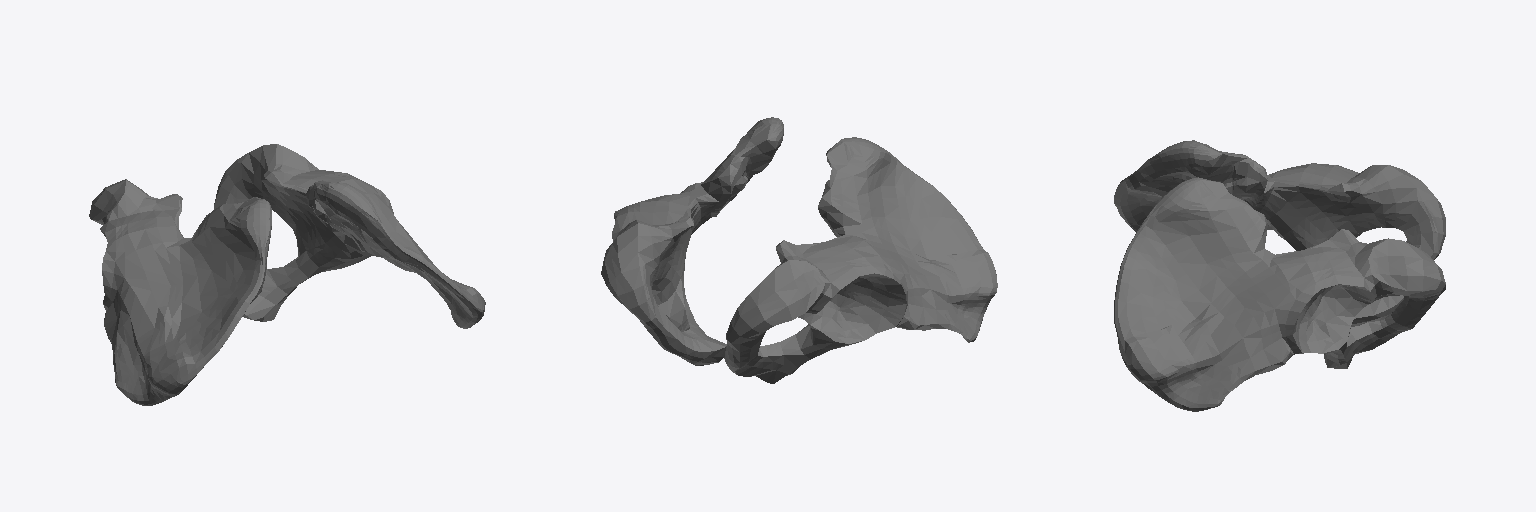
The model's file is Female_Skeletal_Pelvis.obj.
The picture shows the model from 3 angles: view 1: azimuth 30°, elevation 25°; view 2: azimuth 150°, elevation 25°; view 3: azimuth 270°, elevation 25°; orthographic projection.
Visible parts, largest first — view 1: Female_Skeletal_Pelvis; view 2: Female_Skeletal_Pelvis; view 3: Female_Skeletal_Pelvis.
Part boxes in pixels (left/top/right/bottom): Female_Skeletal_Pelvis: left=89, top=144, right=485, bottom=405; Female_Skeletal_Pelvis: left=601, top=117, right=997, bottom=383; Female_Skeletal_Pelvis: left=1114, top=140, right=1445, bottom=411.
Bounding box in the file's own units: 2.79 × 1.47 × 2.35.